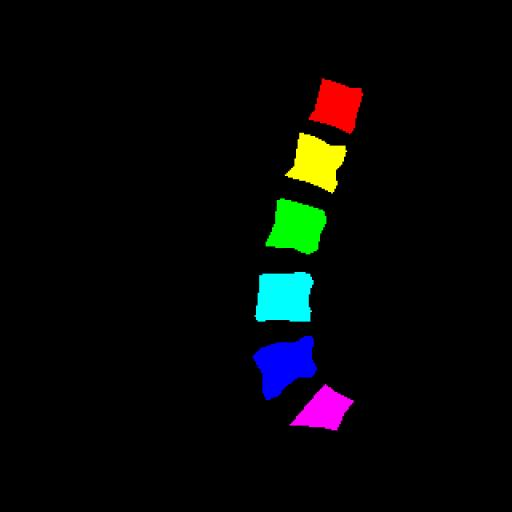L1: (309, 78, 363, 134)
L2: (285, 133, 346, 193)
L3: (265, 198, 326, 254)
L4: (256, 272, 313, 322)
L5: (253, 336, 319, 402)
S1: (290, 384, 354, 430)
